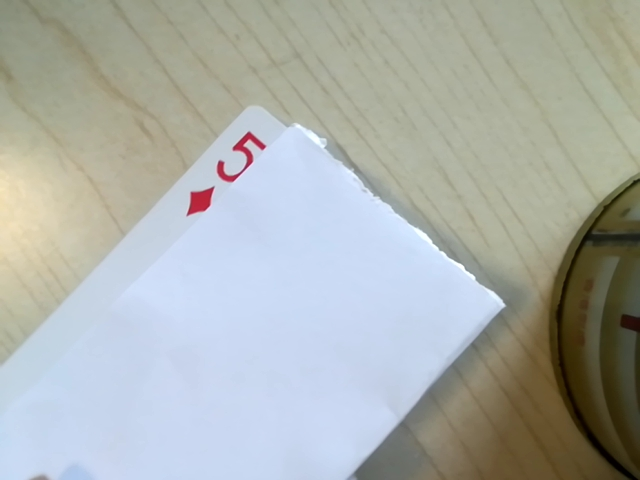fk 5: (184, 131, 273, 218)
